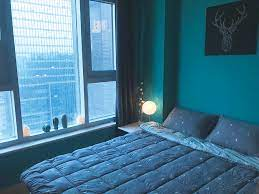Bed: (24, 102, 259, 194)
